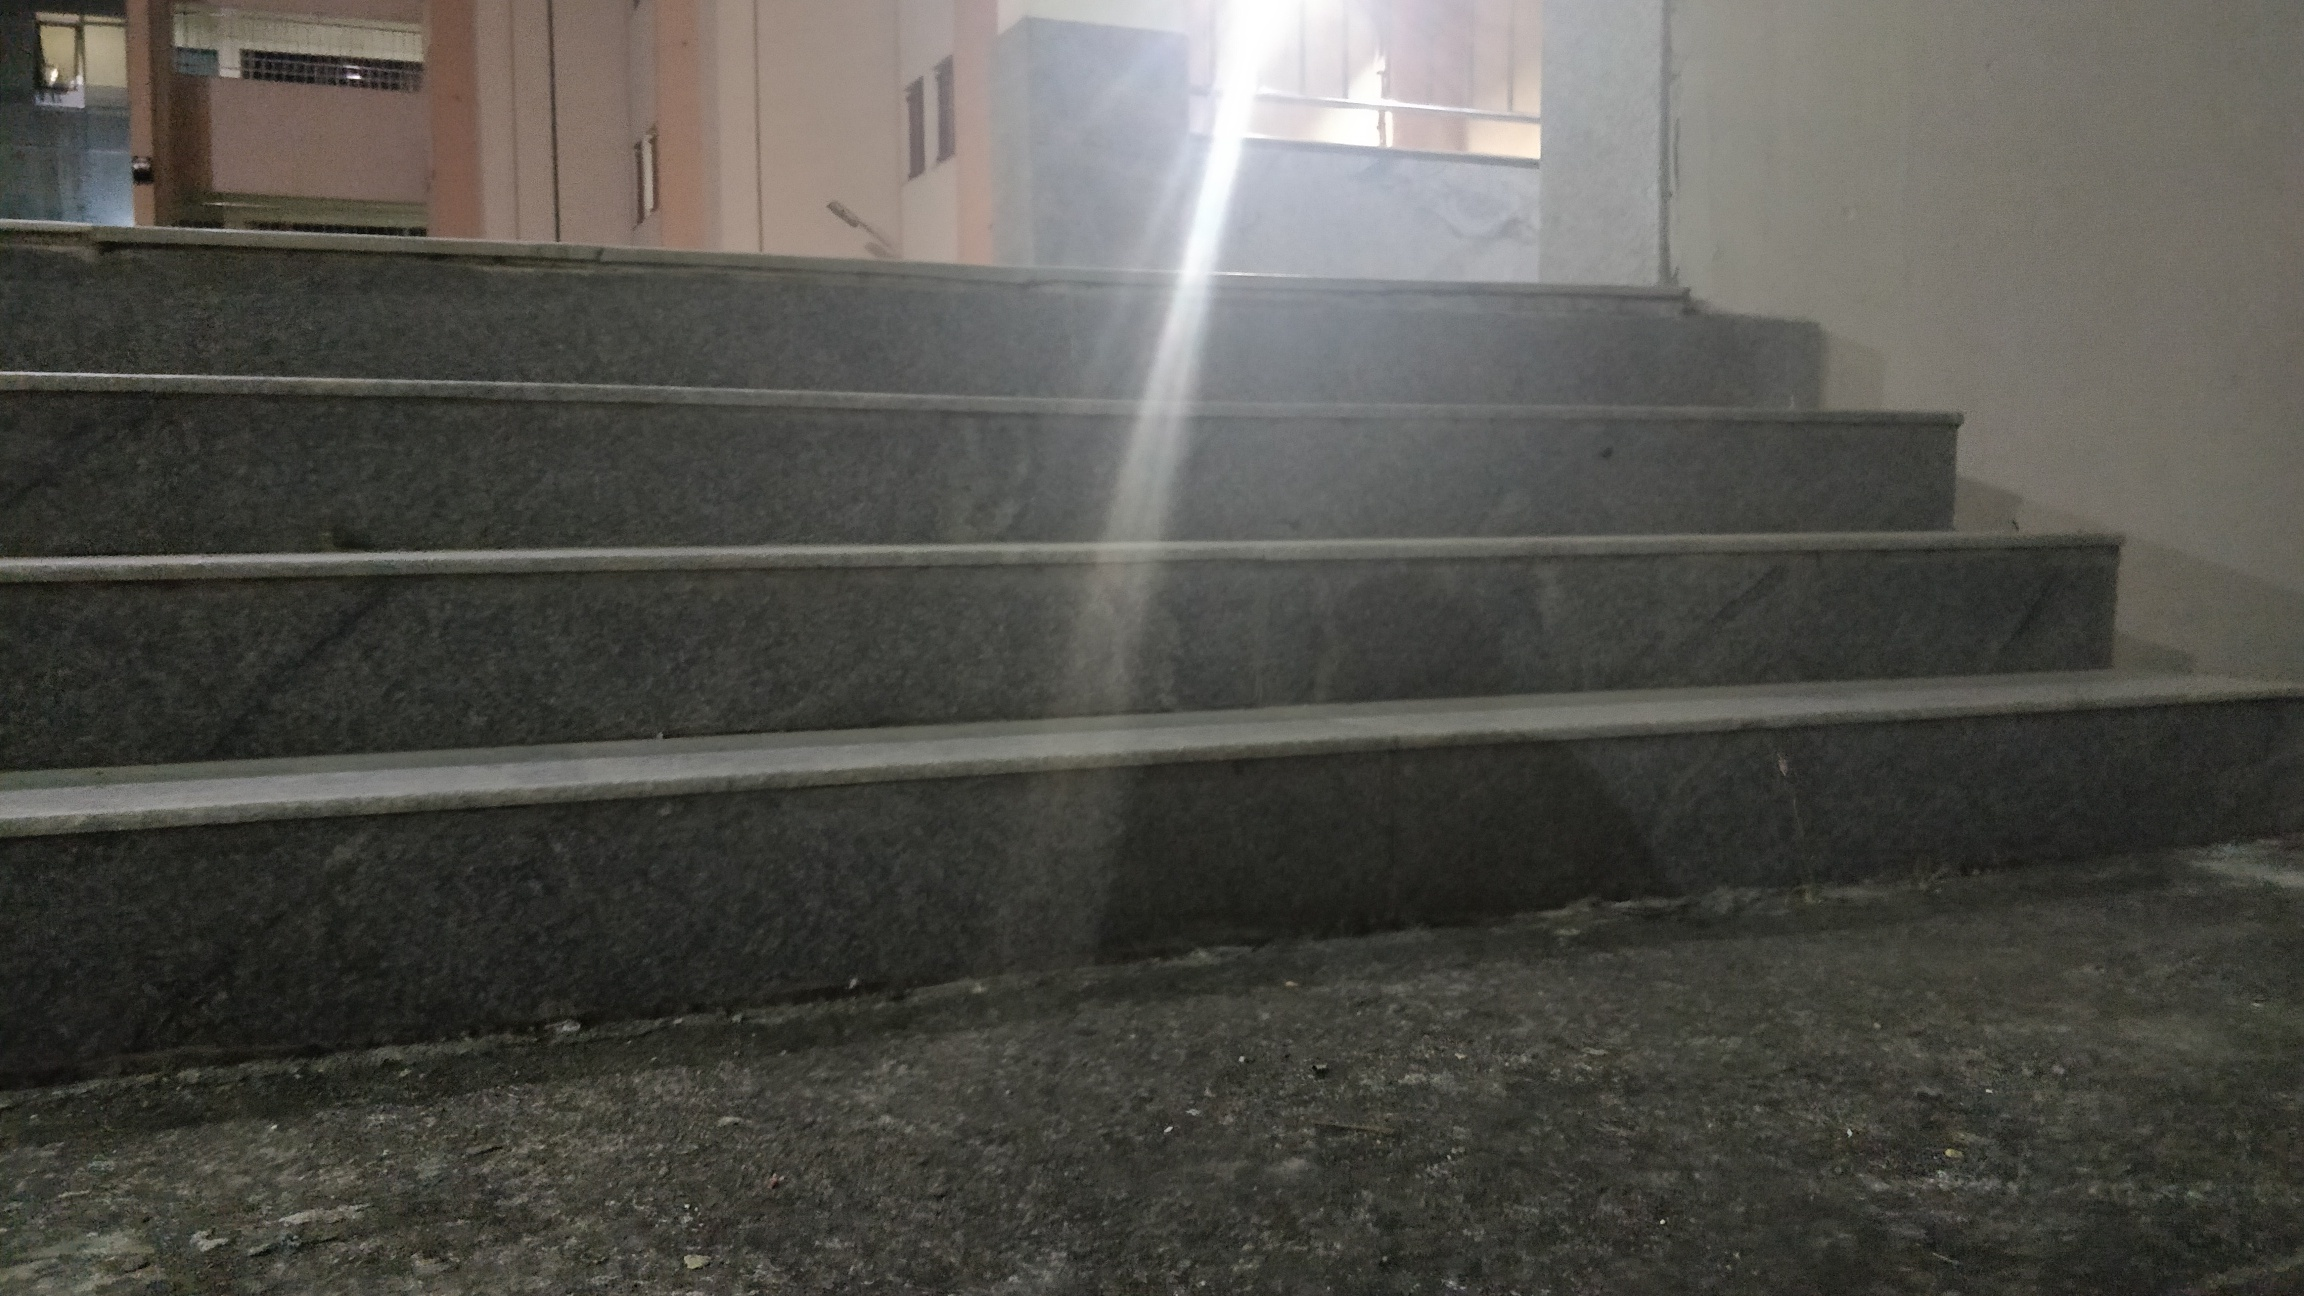stairs_up: (25, 226, 2193, 929)
